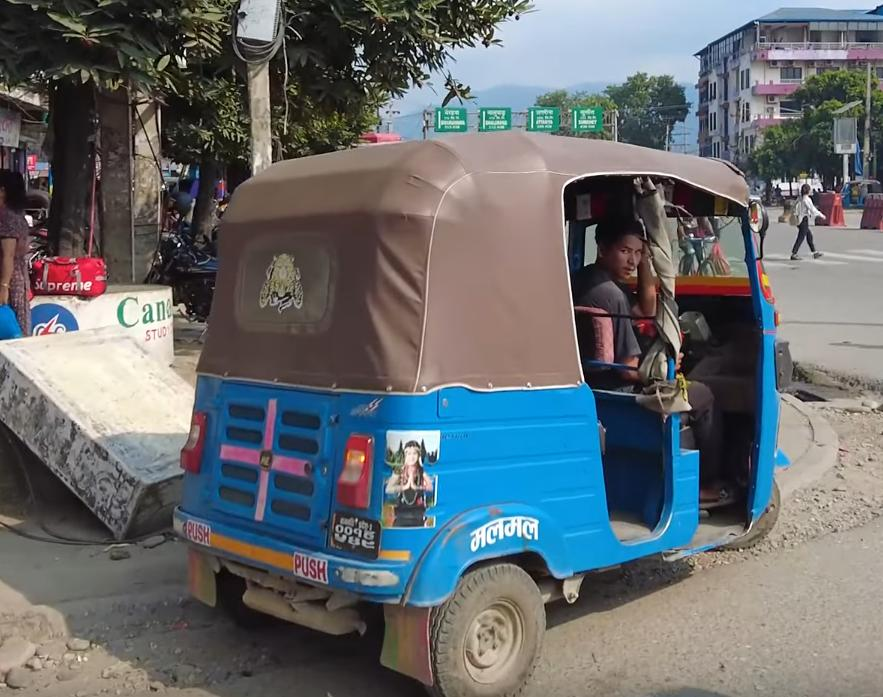auto_rickshaw: (159, 125, 797, 697)
